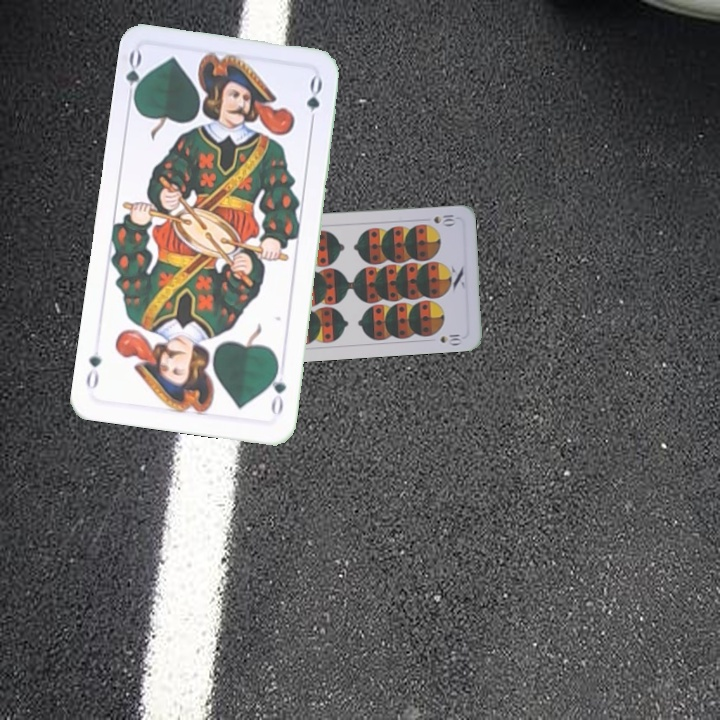GO: (121, 47, 150, 107), (266, 360, 289, 420)
S10: (430, 211, 458, 227)
